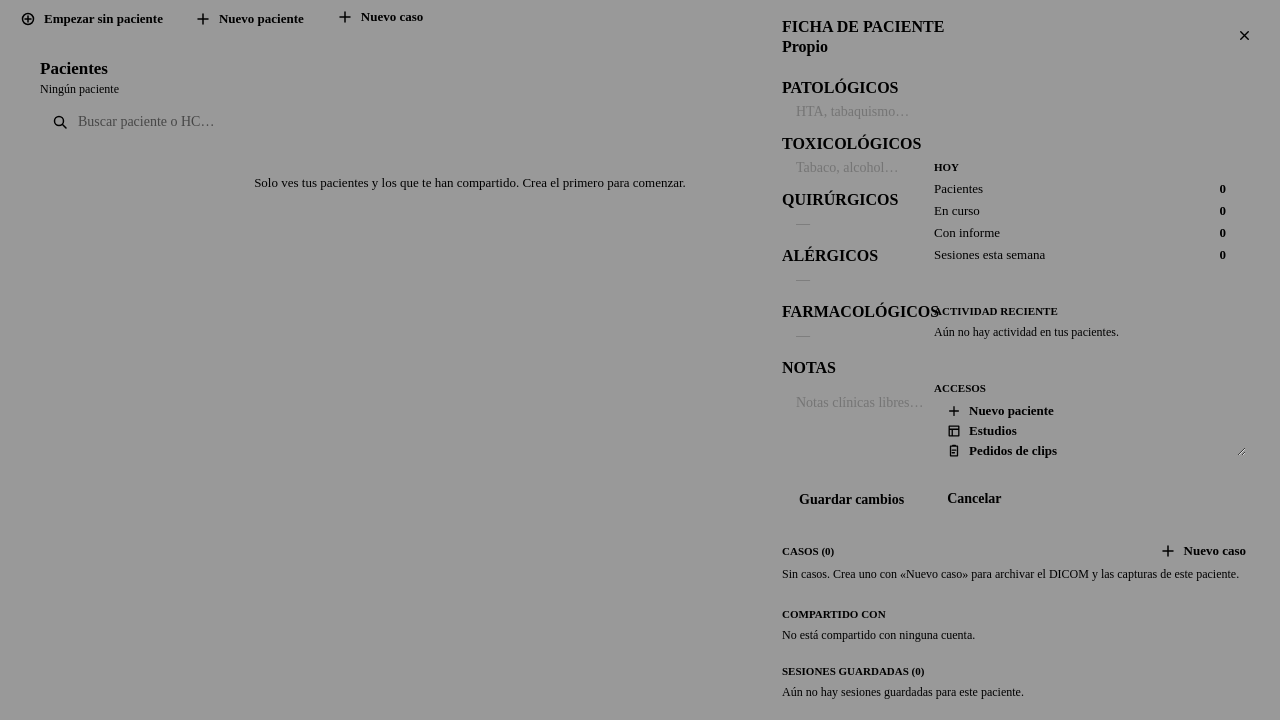
Test: descartar los cambios de la ficha › «Cancelar» con «Notas» editado pregunta y no cierra hasta confirmar
(page scrolled)
Type "Cefalea en trueno" into the text box labelled "Notas" at (1020, 423), box [794,391,1246,456]
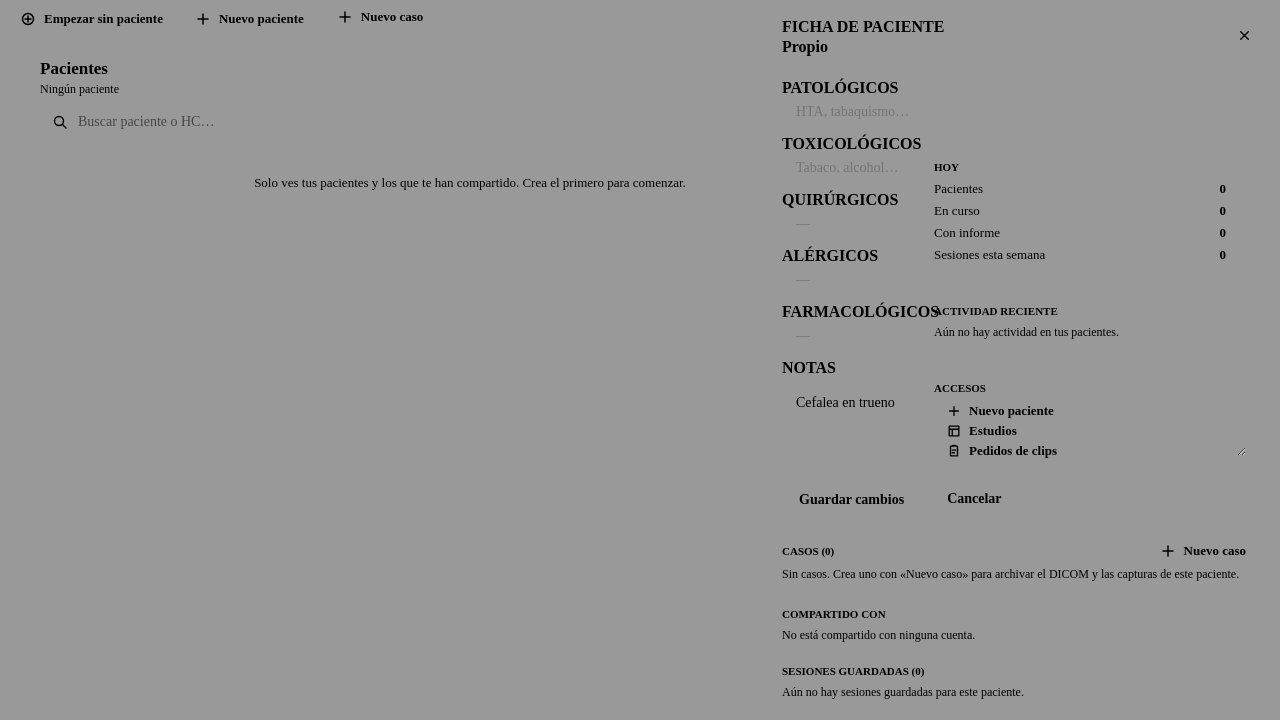
Click the button "Cancelar" at (974, 499), box [931,490,1018,509]
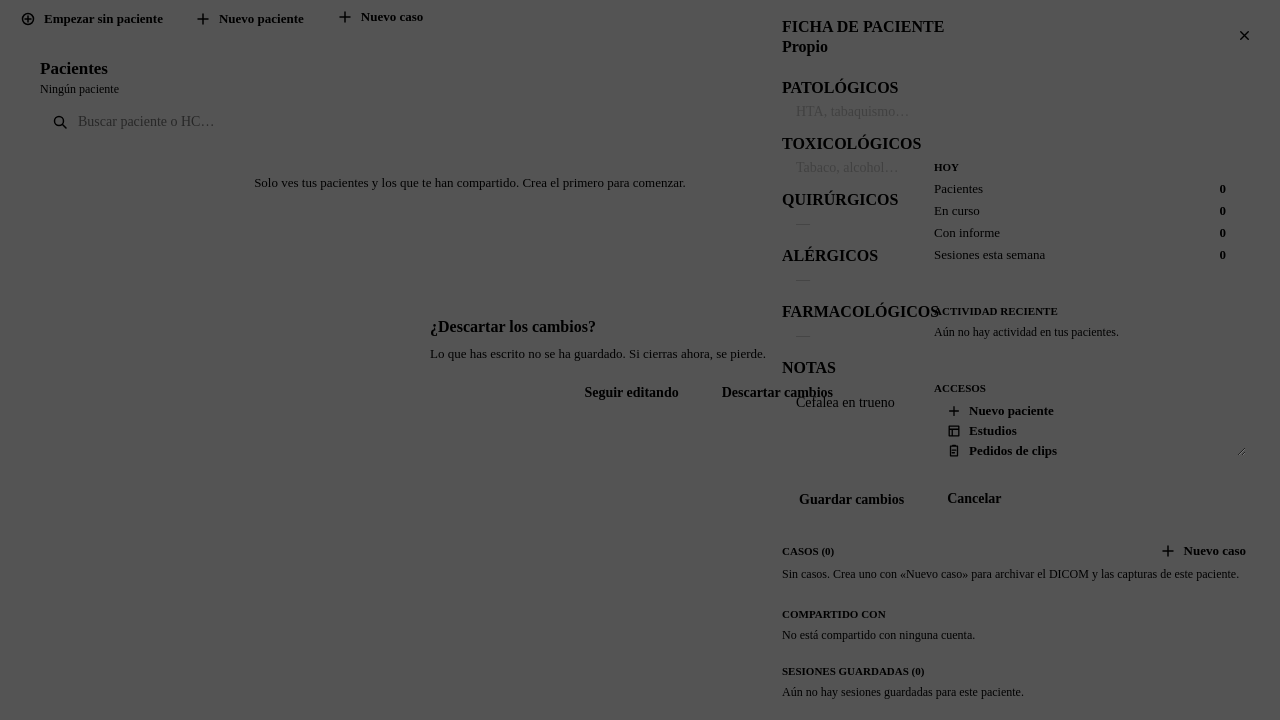
Check: the dialog "¿Descartar los cambios?" is shown, box [406,296,874,424]
Click the button "Seguir editando" at (632, 393), box [568,384,695,402]
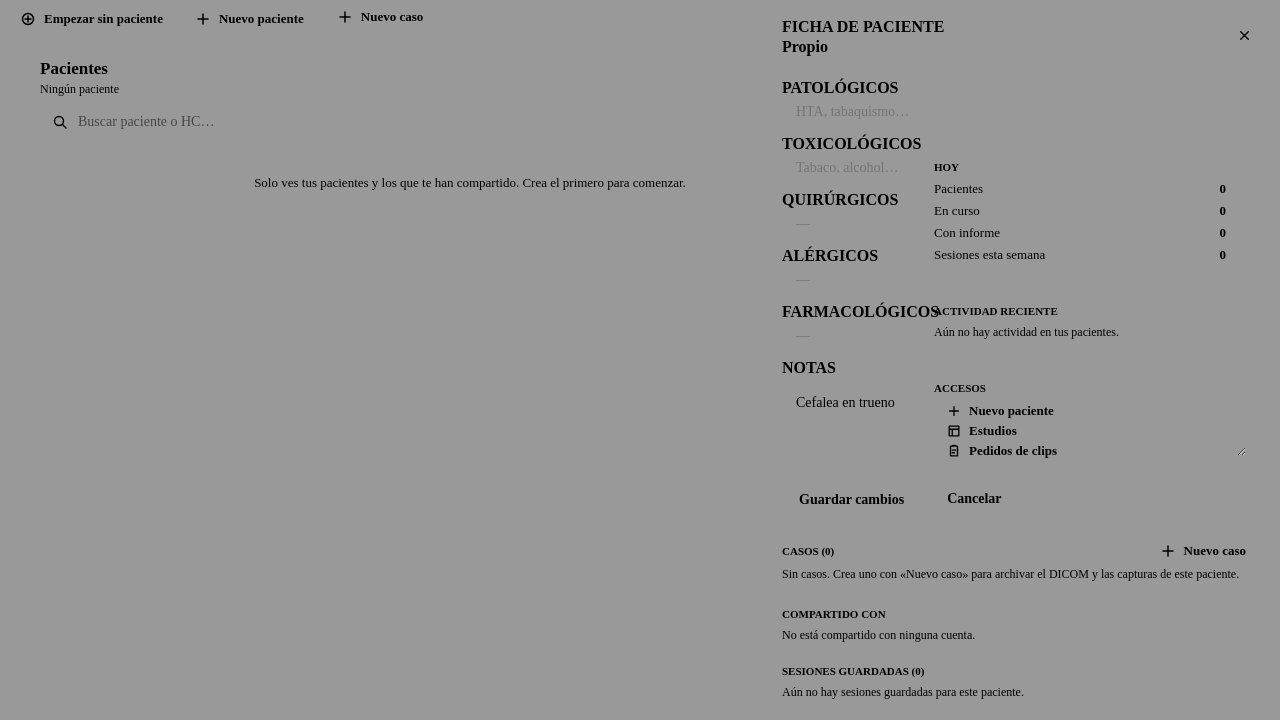
Click the button "Cancelar" at (974, 499), box [931,490,1018,509]
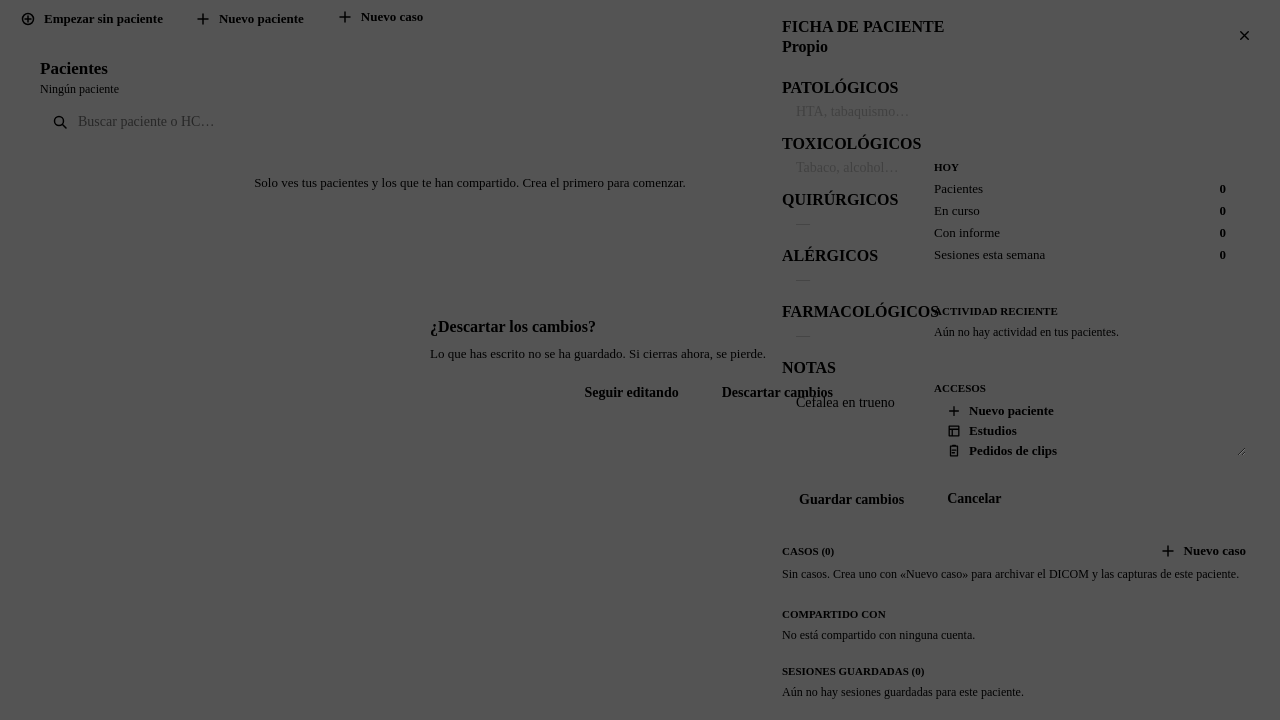
Click the button "Descartar cambios" at (777, 393), box [705,384,850,402]
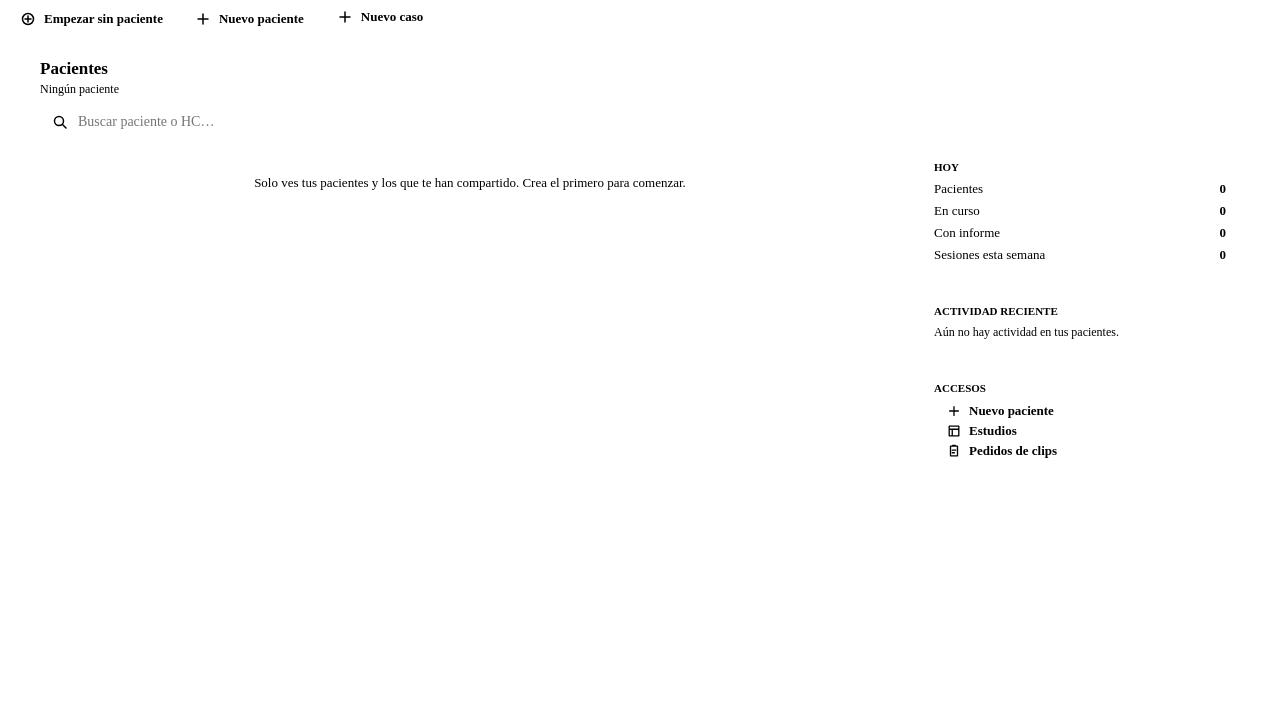
Check: the label labelled "Notas" is gone
